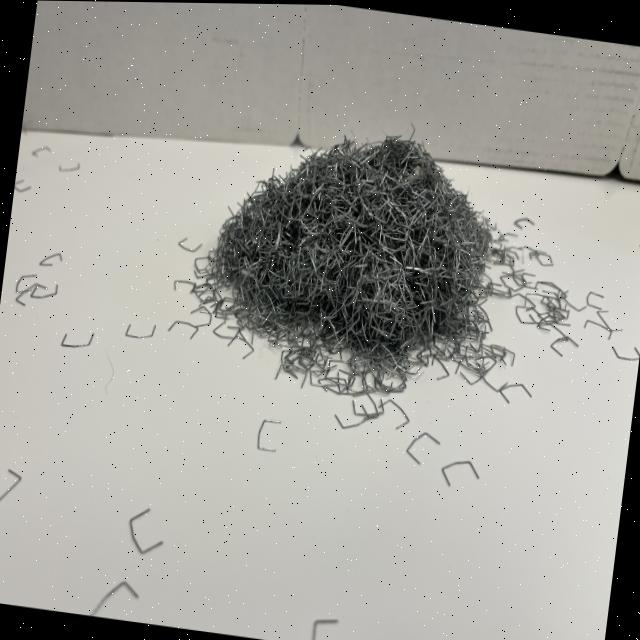staples: (198, 105, 510, 378)
